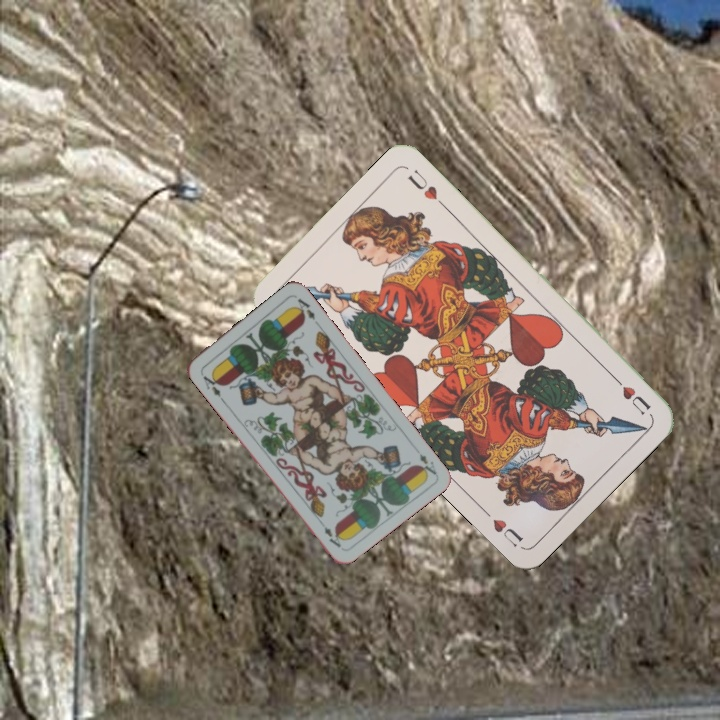EA: (199, 369, 226, 404), (414, 450, 439, 479)
HU: (607, 371, 653, 417)
